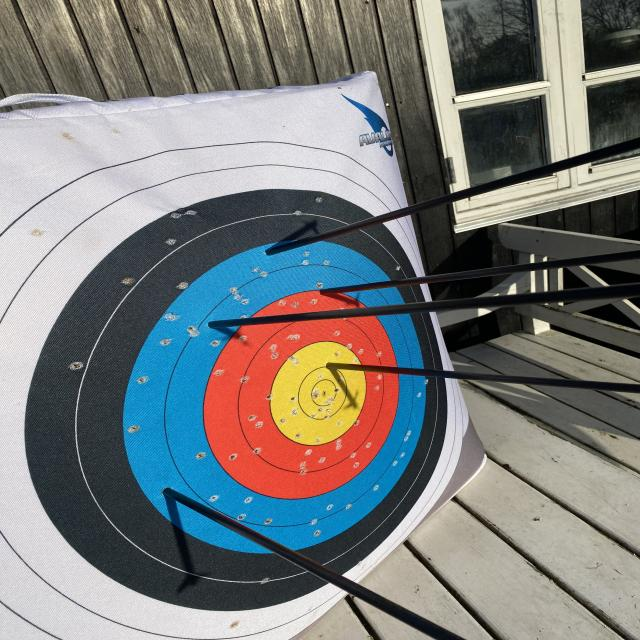Arrow_Blue: (240, 237, 302, 273), (154, 474, 197, 516), (191, 308, 240, 342)
Arrow_Red: (311, 281, 358, 312)
Arrow_Yellow: (315, 352, 360, 383)
